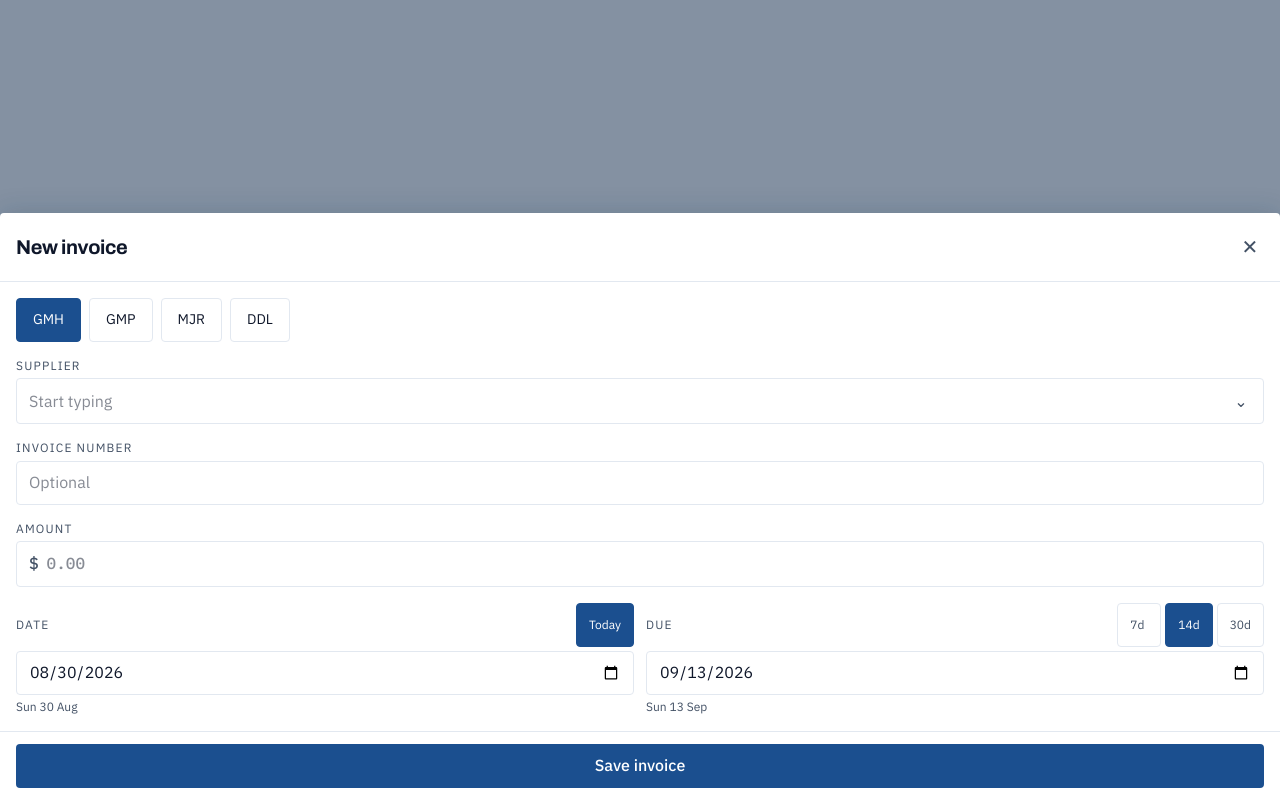
Test case: the common case: four taps and a number › is honest when the write is queued rather than saved
Type "Bid" into the field labelled "Supplier" at (618, 401), box x1=17 y1=379 x2=1219 y2=423
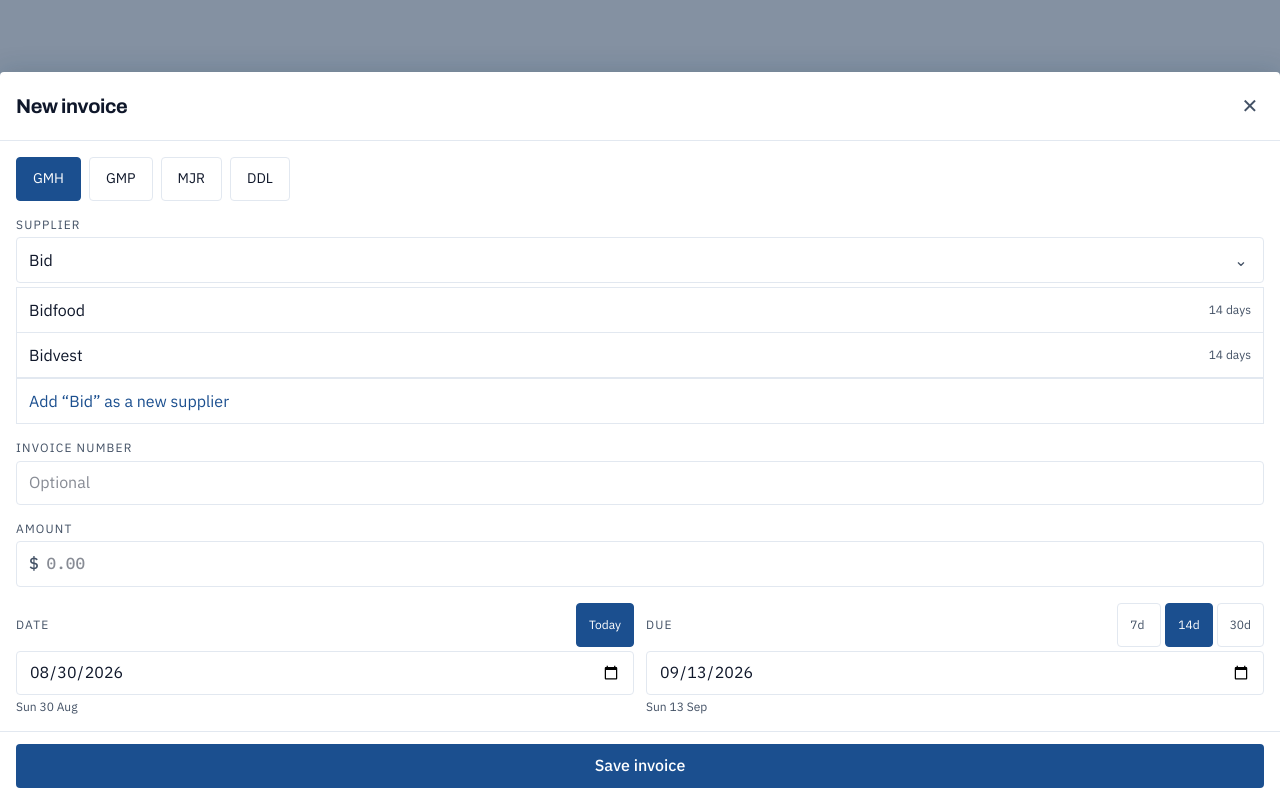
Press the mouse on the button "Bidfood 14 days" at (57, 310), box x1=17 y1=288 x2=1263 y2=332
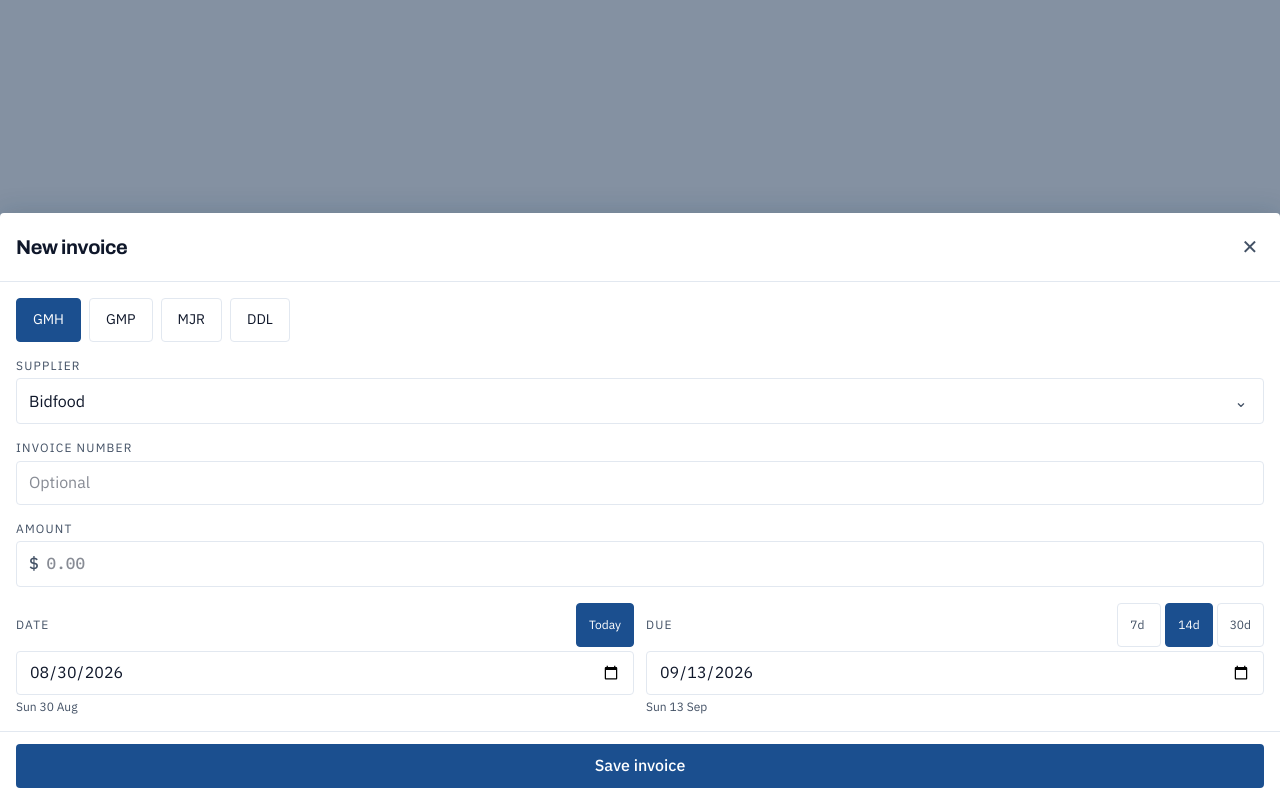
Type "100" into the field labelled "Amount" at (651, 564), box x1=39 y1=542 x2=1263 y2=586
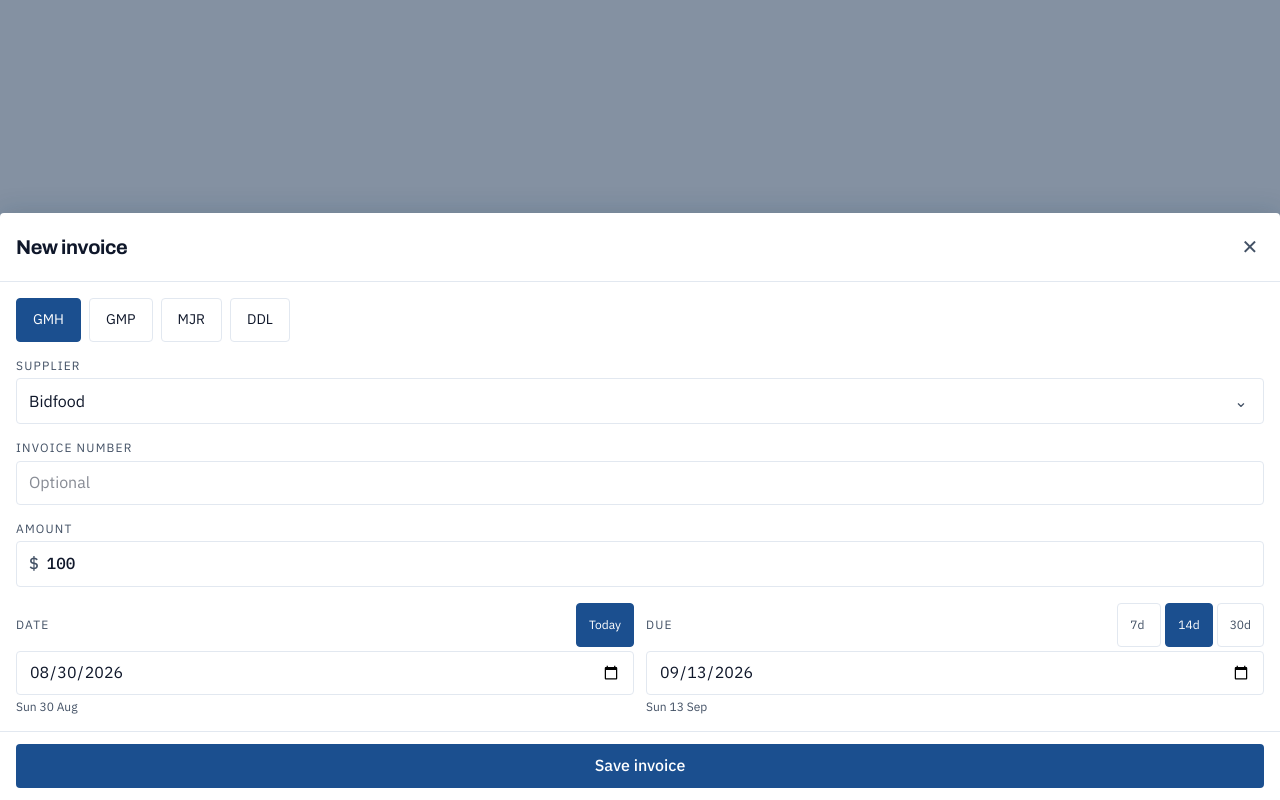
Click the button "Save invoice" at (640, 766), box x1=16 y1=744 x2=1264 y2=788
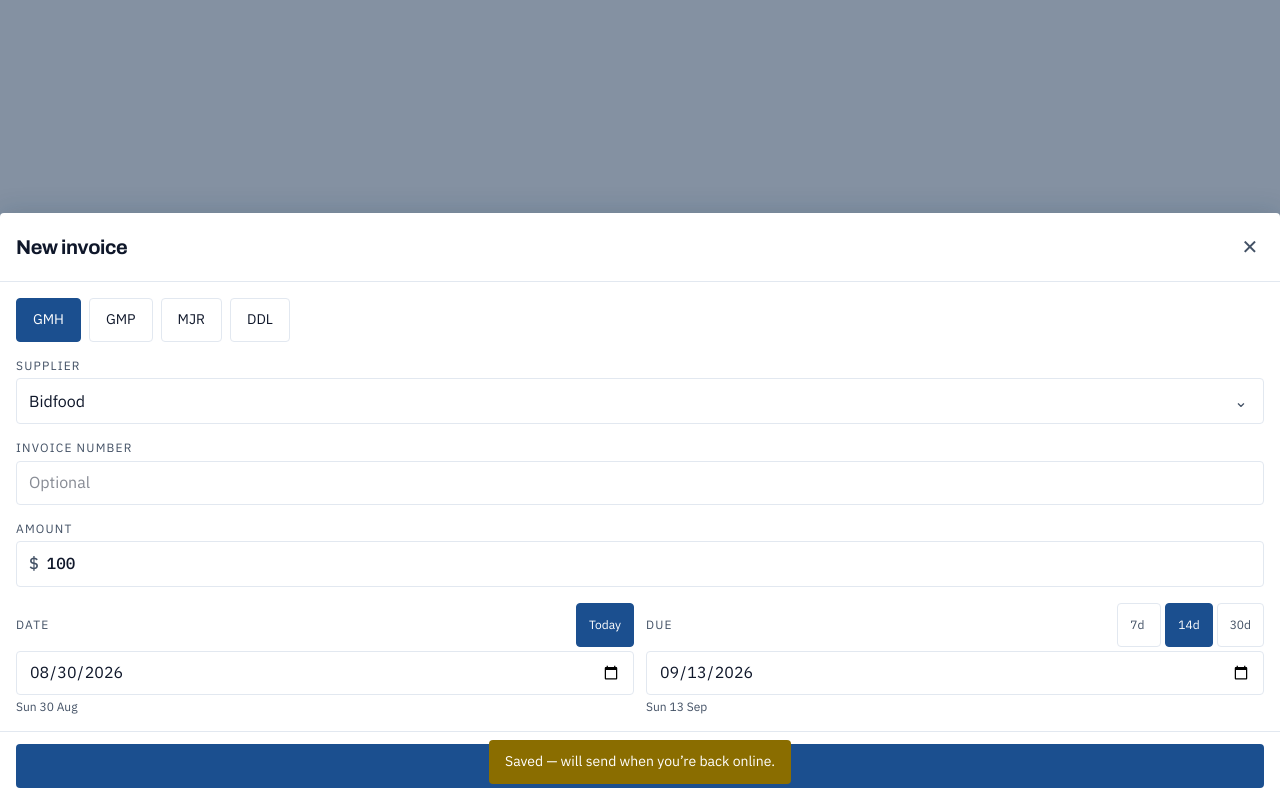
Result: the text "Saved — will send when you’re back online." is shown at x1=505 y1=752 x2=775 y2=772
